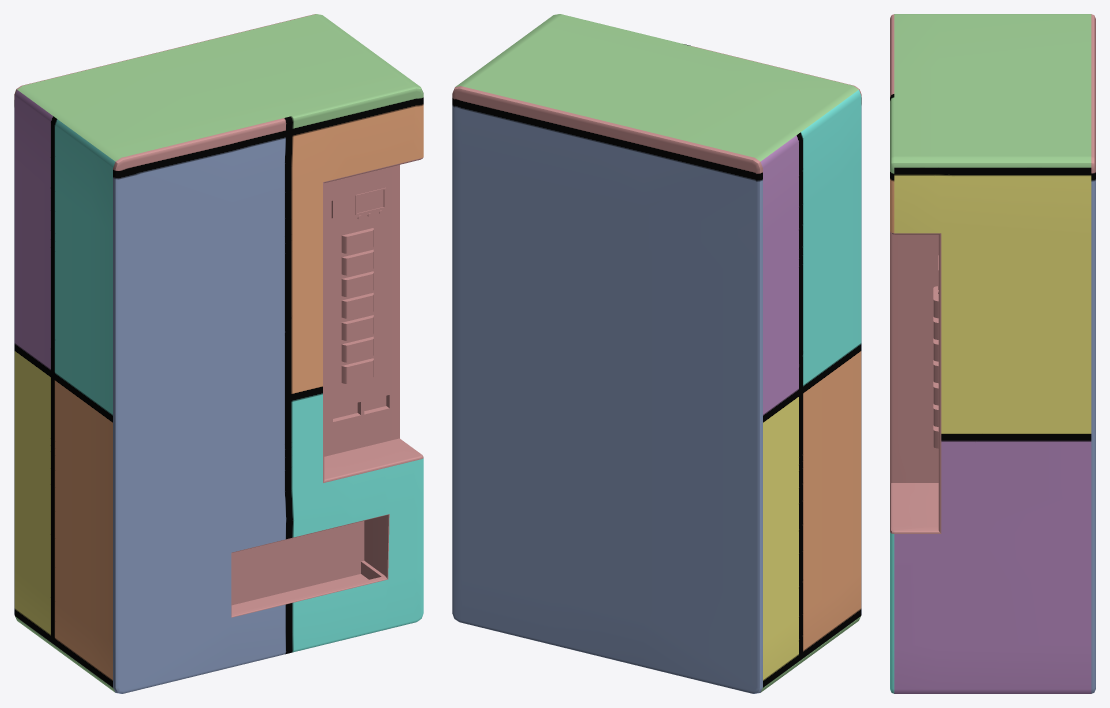
Rendered from VendingMachine01.fbx.
3 views of the same model, side by side, from view 1: azimuth 30°, elevation 25°; view 2: azimuth 150°, elevation 25°; view 3: azimuth 270°, elevation 25° (orthographic).
Visible parts, largest first — view 1: VendingMachine_Bottons11; view 2: VendingMachine_Bottons11; view 3: VendingMachine_Bottons11.
Boxes of the visible parts, x1,y1,x2,y2 form: VendingMachine_Bottons11: [14, 14, 423, 693]; VendingMachine_Bottons11: [452, 14, 861, 693]; VendingMachine_Bottons11: [890, 14, 1095, 693].
Bounding box in the file's own units: 111 × 183 × 63.68.
